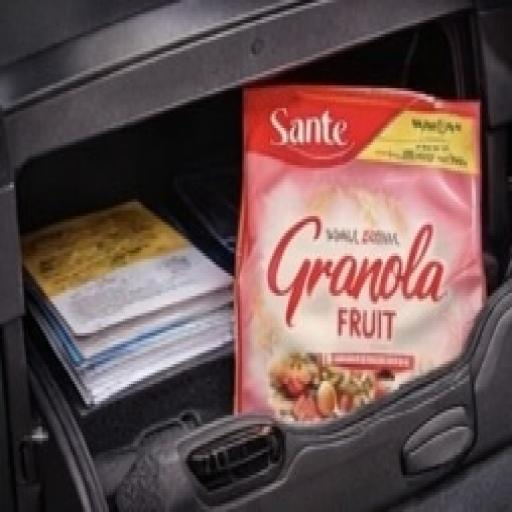granola: (196, 49, 496, 465)
